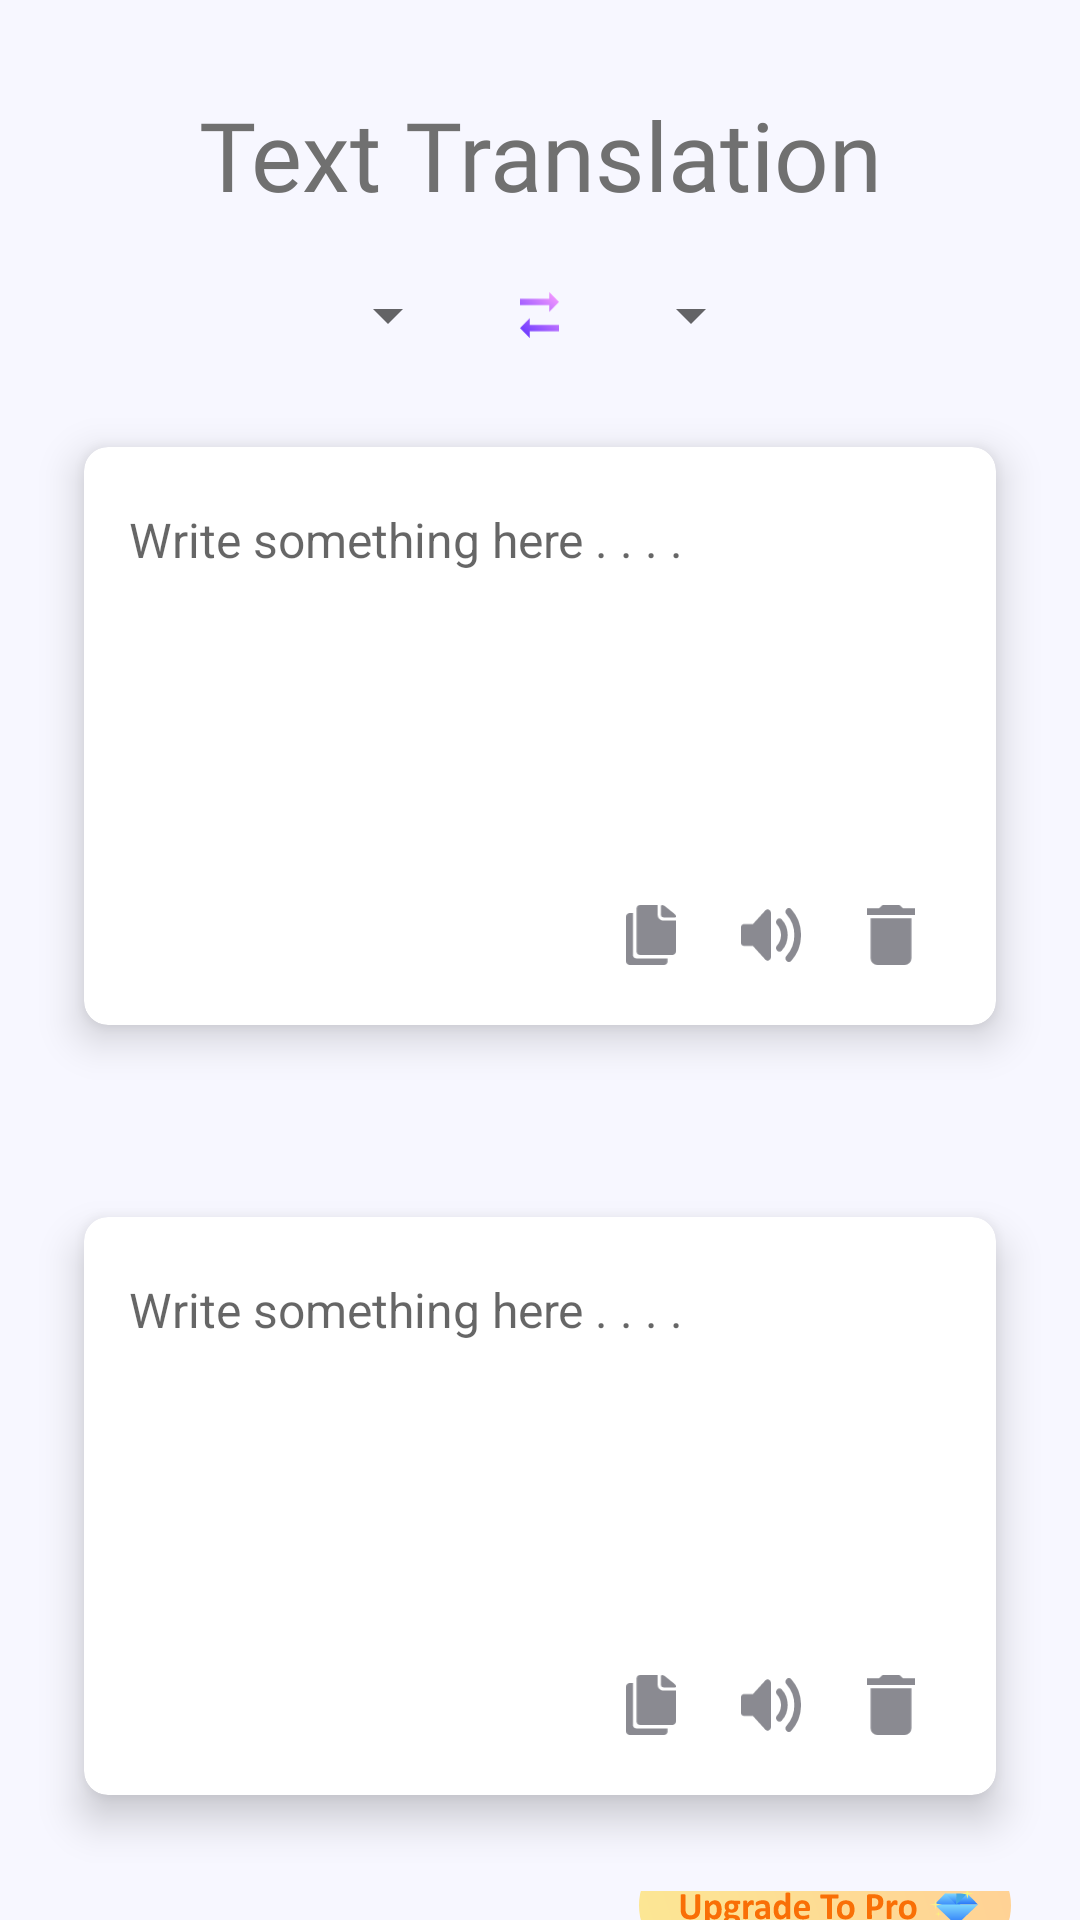

Locate icon controls on the screen. Image size 1080 x 1920, boxes as (x1, y1, x2, y2).
delete: (867, 905, 915, 965), (867, 1675, 915, 1735)
sound: (741, 908, 801, 962), (741, 1678, 801, 1732)
transfer: (520, 292, 559, 338)
